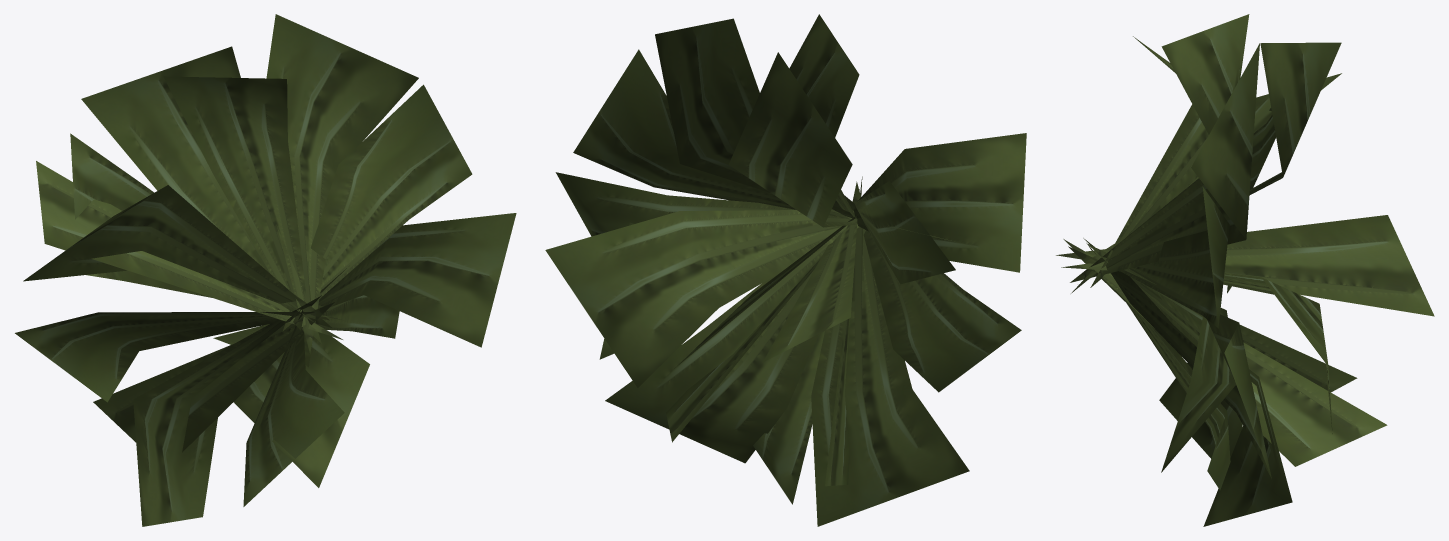
File: UC_Grass_02-2.fbx
3 views of the same model, side by side, from view 1: azimuth 30°, elevation 25°; view 2: azimuth 150°, elevation 25°; view 3: azimuth 270°, elevation 25° (orthographic). The views are drawn at different scales.
Parts seen in each view (by area): view 1: UC_Grass_01_02; view 2: UC_Grass_01_02; view 3: UC_Grass_01_02.
Part boxes in pixels (left/top/right/bottom): UC_Grass_01_02: left=15, top=14, right=516, bottom=526; UC_Grass_01_02: left=545, top=14, right=1026, bottom=526; UC_Grass_01_02: left=1056, top=14, right=1434, bottom=526.
Size of the model in its own units: 4.1 by 3.93 by 2.71.
